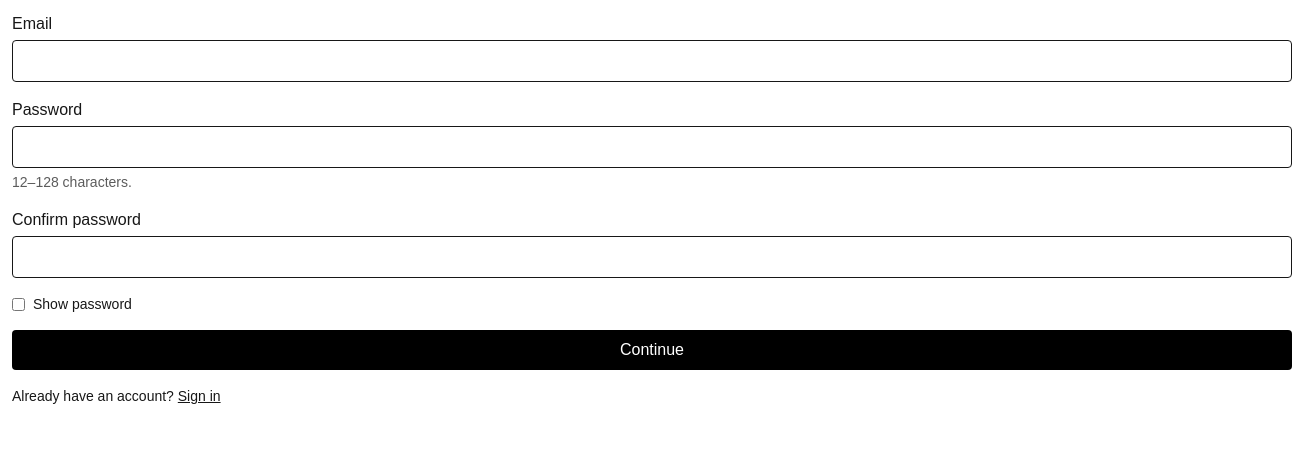
SignUpForm Component › stops when the passwords do not match, without asking the server
Type "sam@example.com" into the field labelled "Email". click: (652, 61)
box: 12,40 -> 1292,82
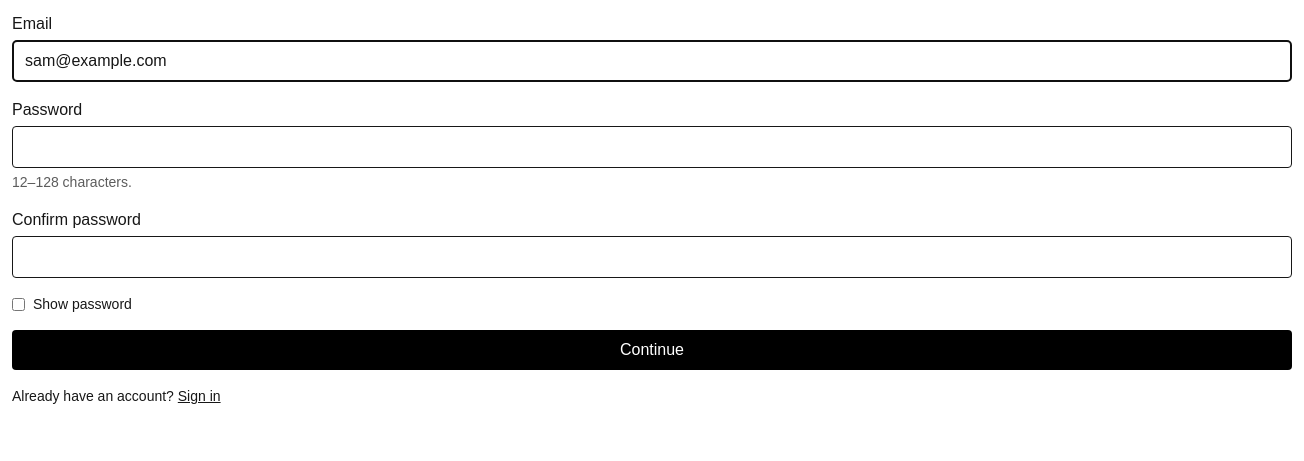
Type "correct horse battery" into the password field labelled "Password". click: (652, 147)
box: 12,126 -> 1292,168
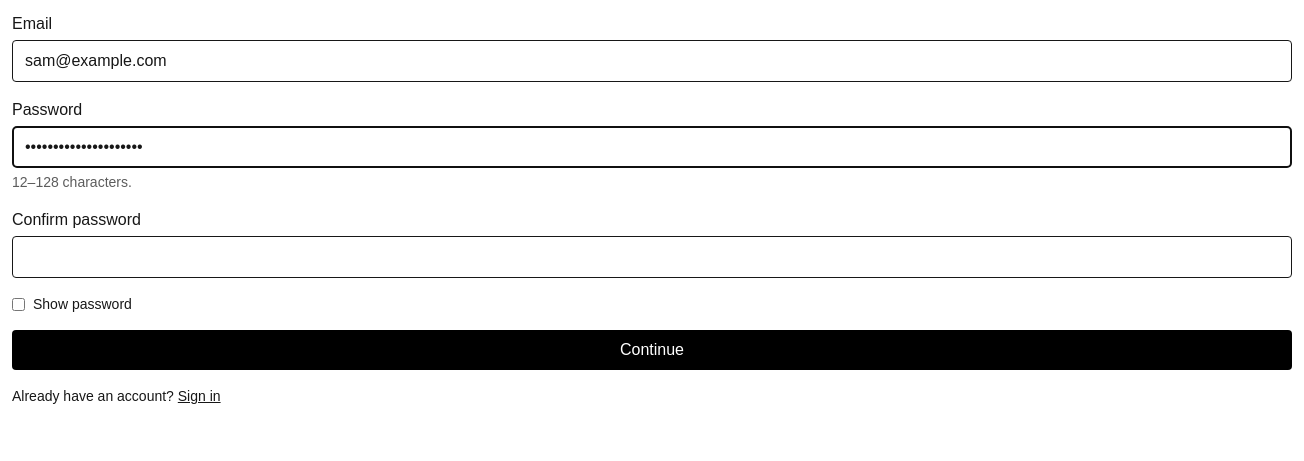
Type "something else entirely" into the password field labelled "Confirm password". click: (652, 257)
box: 12,236 -> 1292,278
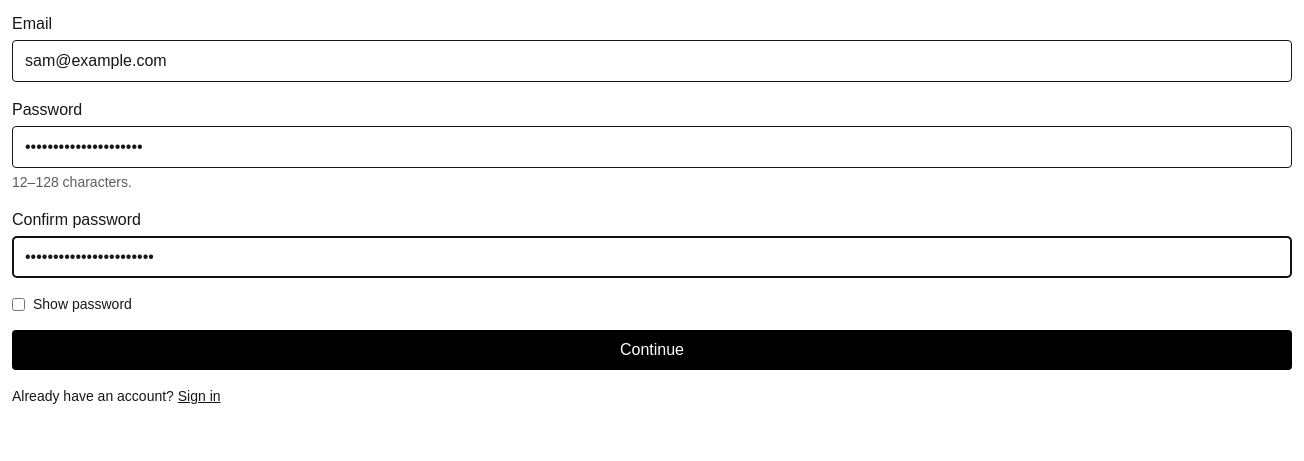
Click the button "Continue". click: (652, 350)
box: 12,330 -> 1292,370
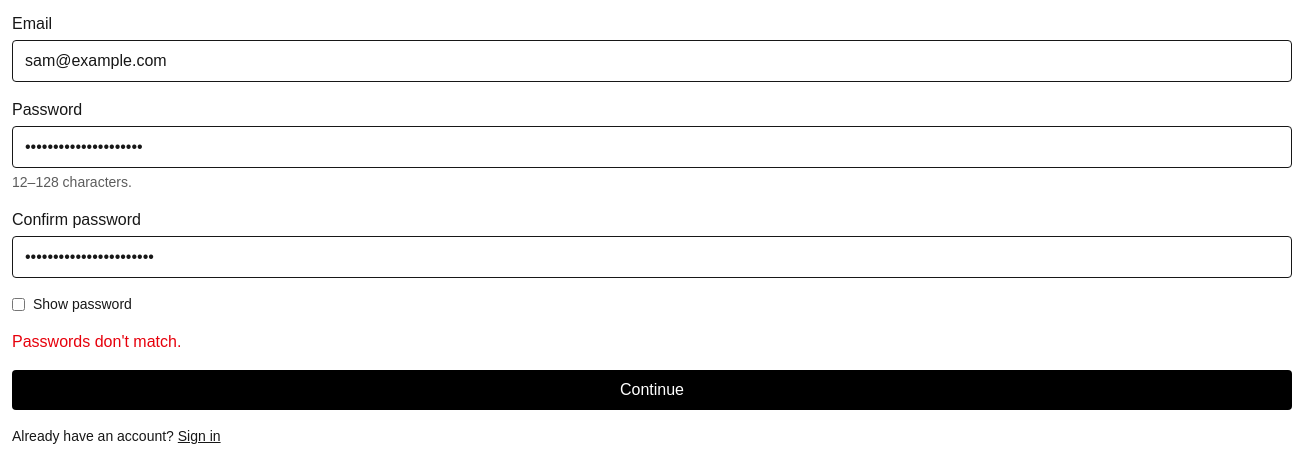
Now the message reads "Passwords don't match.", box 12,333 -> 181,350
